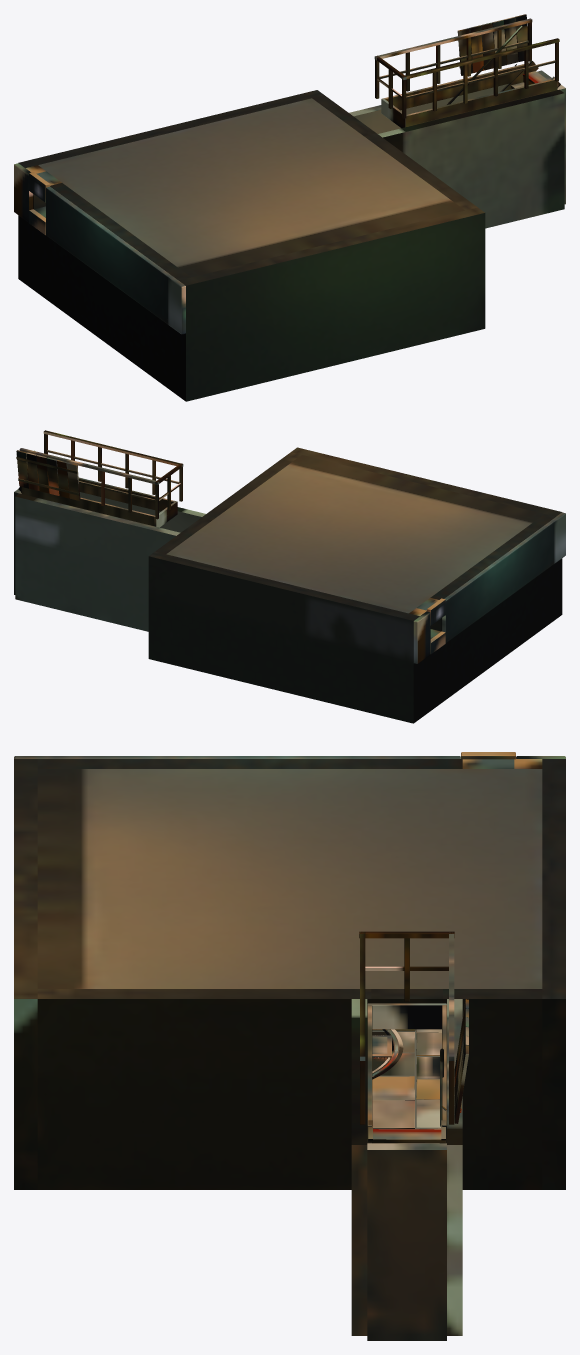
Rendered from tantrik.glb.
The picture shows the model from 3 angles, top to bottom: view 1: azimuth 30°, elevation 25°; view 2: azimuth 150°, elevation 25°; view 3: azimuth 270°, elevation 25°; orthographic projection. The views are drawn at different scales.
Visible parts, largest first — view 1: CHUNK_tantrik; view 2: CHUNK_tantrik; view 3: CHUNK_tantrik.
Boxes of the visible parts, x1,y1,x2,y2 form: CHUNK_tantrik: [14, 14, 565, 401]; CHUNK_tantrik: [14, 430, 565, 723]; CHUNK_tantrik: [14, 752, 565, 1340].
Size of the model in its own units: 11.76 by 3.94 by 6.95.
1 material, 1 textured.
